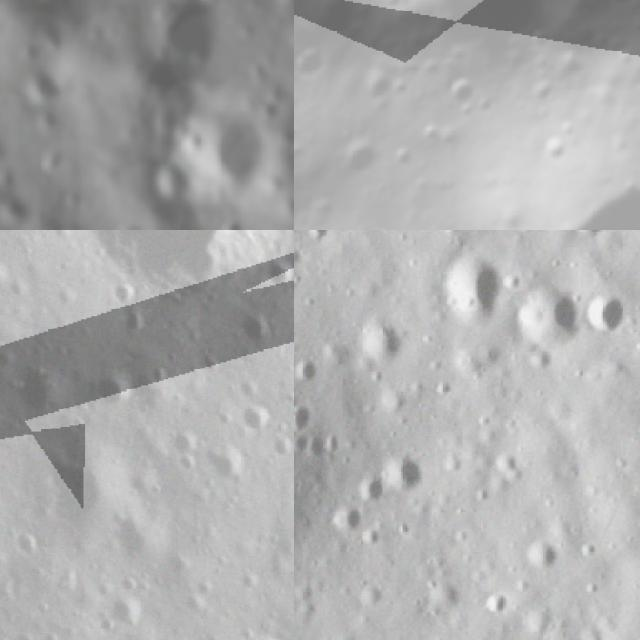crater: (38, 230, 291, 344), (11, 418, 150, 554), (422, 230, 522, 333), (499, 265, 594, 361), (181, 103, 277, 186), (142, 0, 223, 71), (344, 307, 421, 381), (0, 351, 73, 425), (371, 428, 442, 504), (100, 499, 172, 570), (571, 272, 640, 344), (194, 432, 259, 497), (93, 577, 158, 640), (510, 523, 572, 583), (85, 359, 145, 419), (141, 151, 199, 205), (332, 131, 387, 187), (229, 389, 284, 443), (294, 34, 341, 97), (228, 301, 279, 354), (96, 267, 146, 319), (249, 239, 294, 295), (323, 492, 371, 542), (348, 460, 394, 511), (23, 61, 72, 108), (440, 68, 486, 118), (269, 234, 294, 323), (0, 519, 46, 566), (486, 442, 532, 489), (294, 341, 334, 393), (476, 579, 520, 625), (256, 419, 294, 468), (218, 616, 294, 640), (294, 389, 322, 443), (0, 619, 56, 640), (298, 230, 343, 254), (108, 214, 151, 230), (562, 230, 614, 242), (216, 214, 249, 230)
